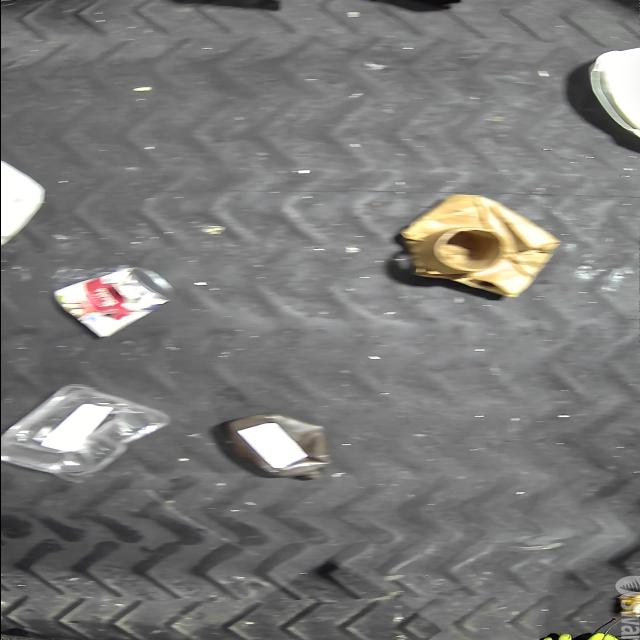can: (49, 266, 174, 336)
milk_jug: (0, 154, 46, 258)
non_white_jug: (226, 414, 332, 480)
